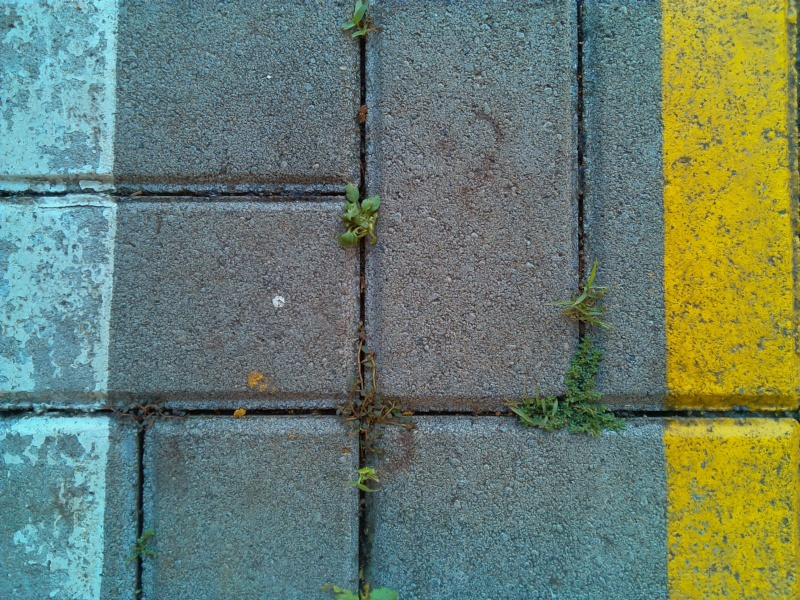Weed: (513, 339, 639, 444), (325, 323, 429, 444), (538, 261, 617, 330), (330, 178, 396, 260), (107, 385, 193, 442), (336, 4, 389, 46), (338, 461, 387, 500), (120, 527, 161, 573)
